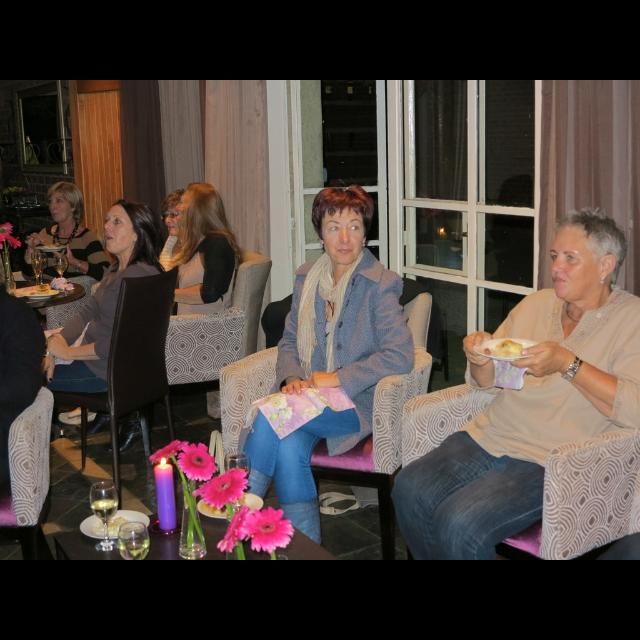Flower: (190, 468, 252, 512), (248, 504, 294, 552), (214, 504, 252, 554), (178, 441, 216, 481), (146, 440, 190, 464)
